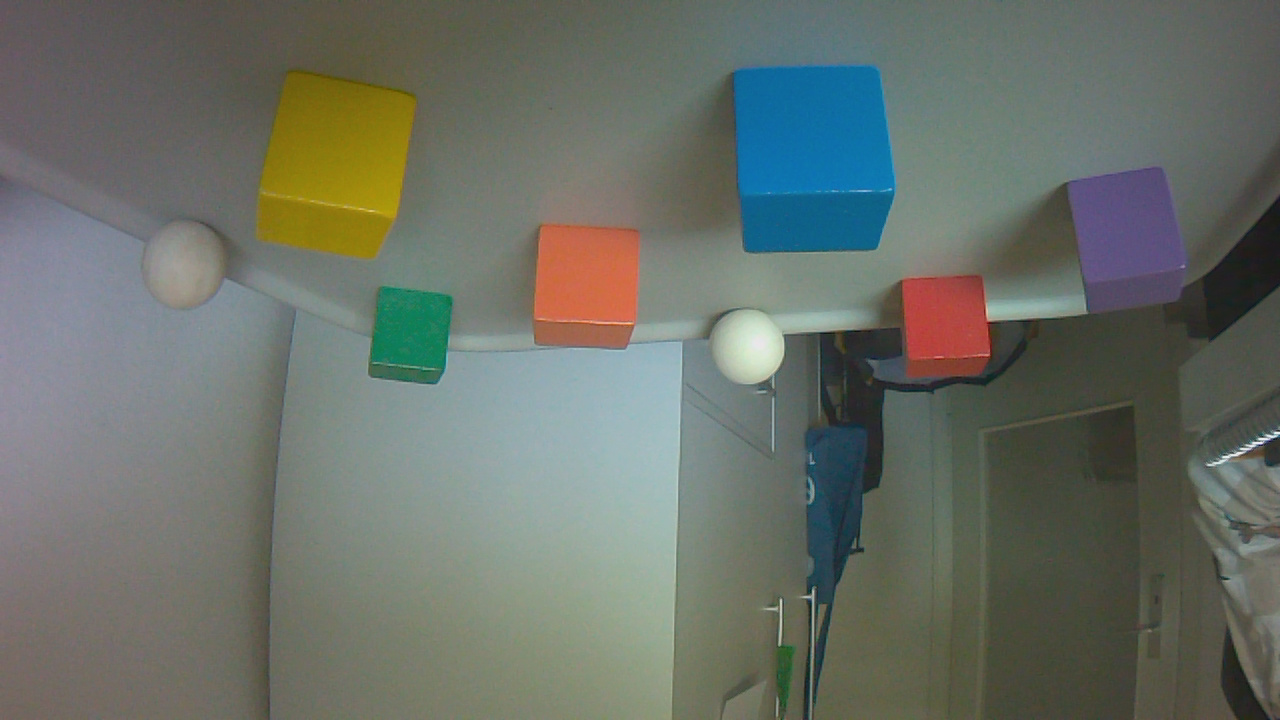ball: (144, 222, 237, 317), (712, 310, 792, 392)
cube_blue: (733, 66, 904, 262)
cube_green: (371, 288, 461, 393)
cube_orange: (533, 224, 649, 357)
cube_purple: (1069, 169, 1194, 322)
cube_red: (902, 277, 998, 385)
cube_yellow: (257, 75, 423, 265)
